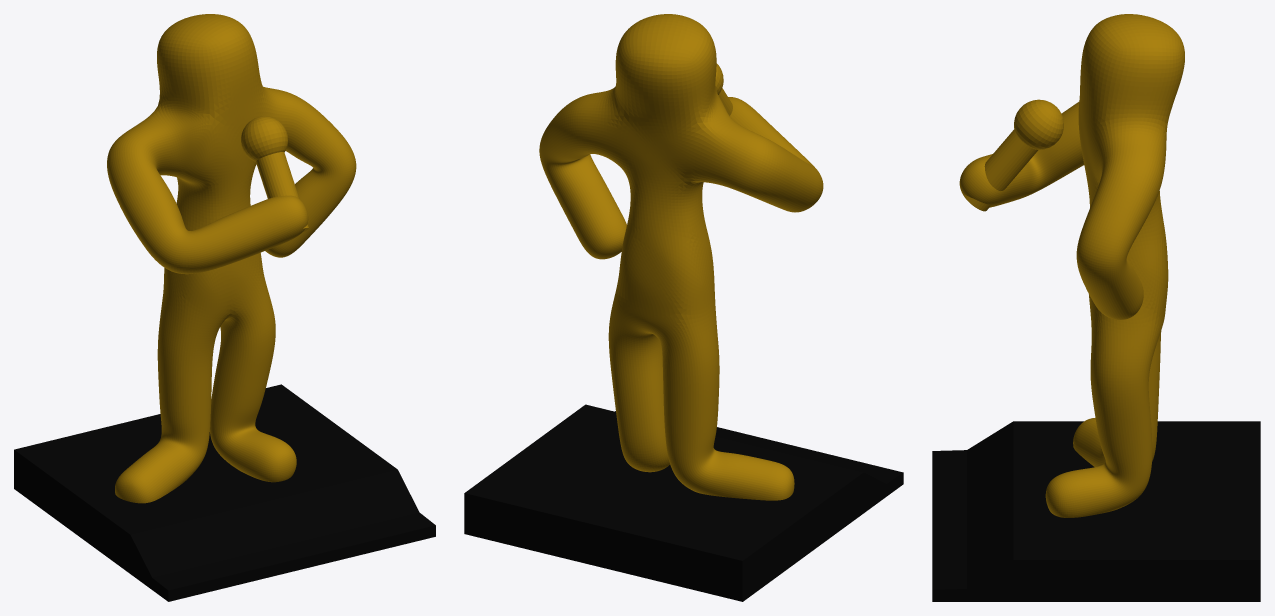
3 views of the same model, side by side, from view 1: azimuth 30°, elevation 25°; view 2: azimuth 150°, elevation 25°; view 3: azimuth 270°, elevation 25° (orthographic). The views are drawn at different scales.
Visible parts, largest first — view 1: Plane.005, base.005, Sphere; view 2: Plane.005, base.005; view 3: base.005, Plane.005, Sphere.
Boxes of the visible parts, x1,y1,x2,y2 form: Plane.005: [107, 14, 356, 503]; base.005: [14, 384, 435, 601]; Sphere: [241, 116, 308, 232]; Plane.005: [539, 14, 823, 500]; base.005: [464, 404, 903, 601]; base.005: [932, 421, 1260, 601]; Plane.005: [959, 14, 1184, 517]; Sphere: [962, 99, 1063, 211].
Size of the model in its own units: 79.88 by 137 by 79.88.
